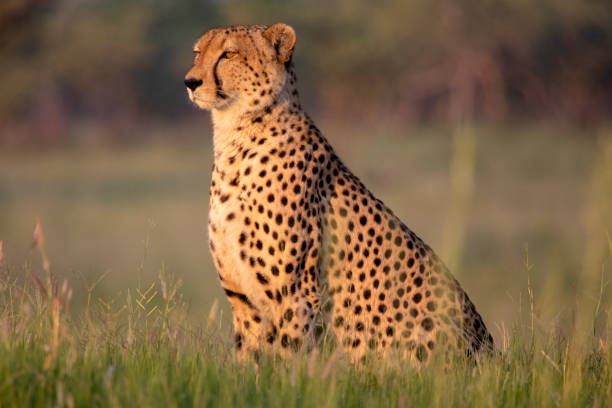cheetah: (170, 20, 315, 134)
